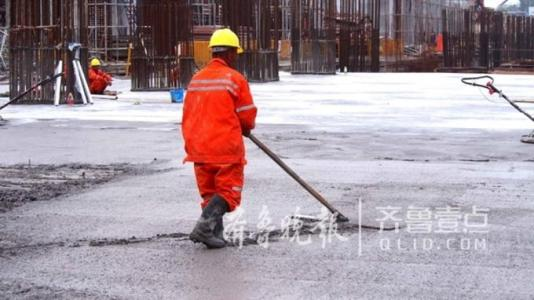boots: (180, 200, 244, 244)
hard-hat: (207, 28, 244, 54), (90, 57, 100, 66)
person: (181, 27, 258, 249), (87, 57, 113, 94)
ppe-suit: (179, 58, 257, 213), (87, 69, 109, 93)
